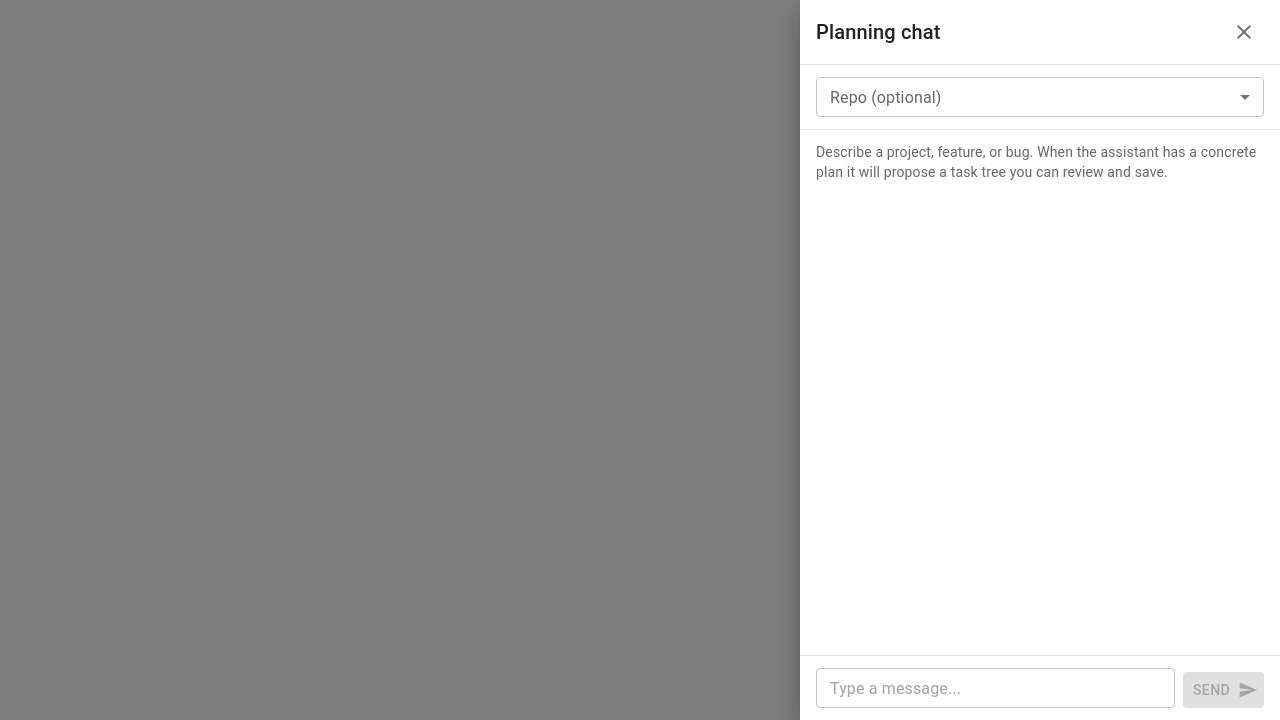
ChatDrawer › shows an error in the assistant bubble when the chat request fails
Type "hi" into the text box named "chat message" at [996, 688], box 830,676 -> 1161,700
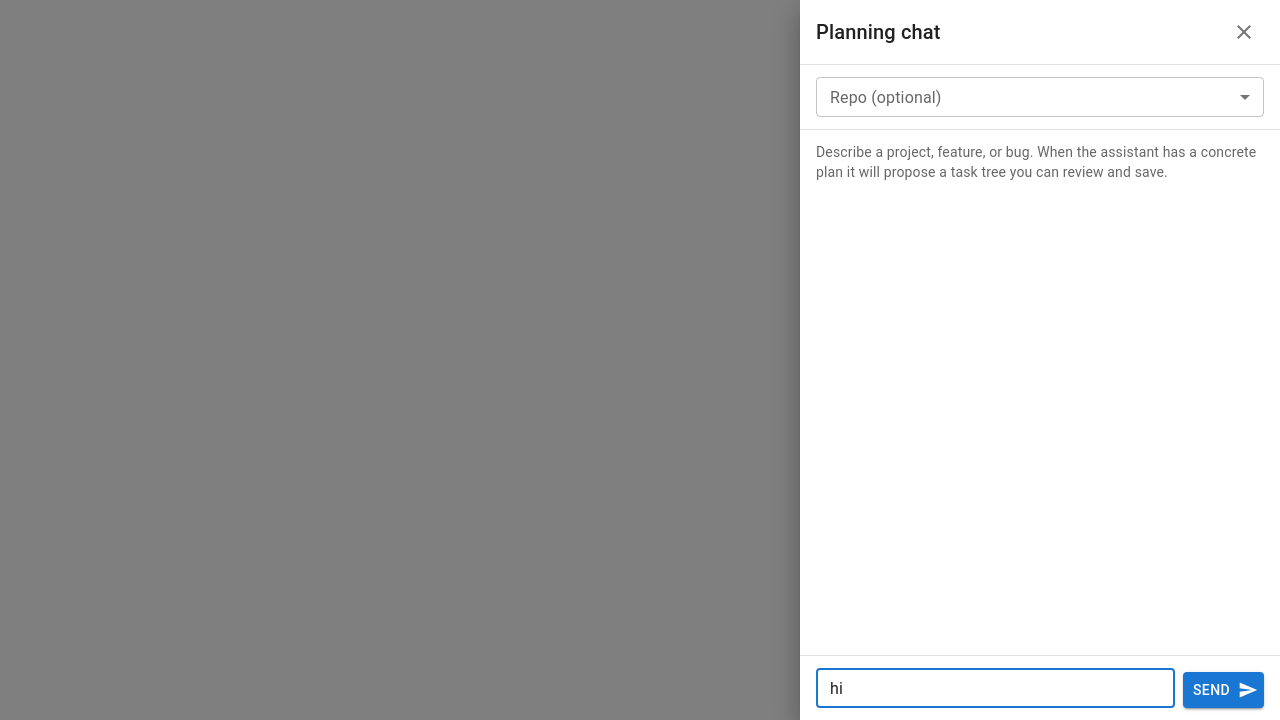
Click the button with aria-label "send message" at [1224, 690], box 1183,672 -> 1264,708
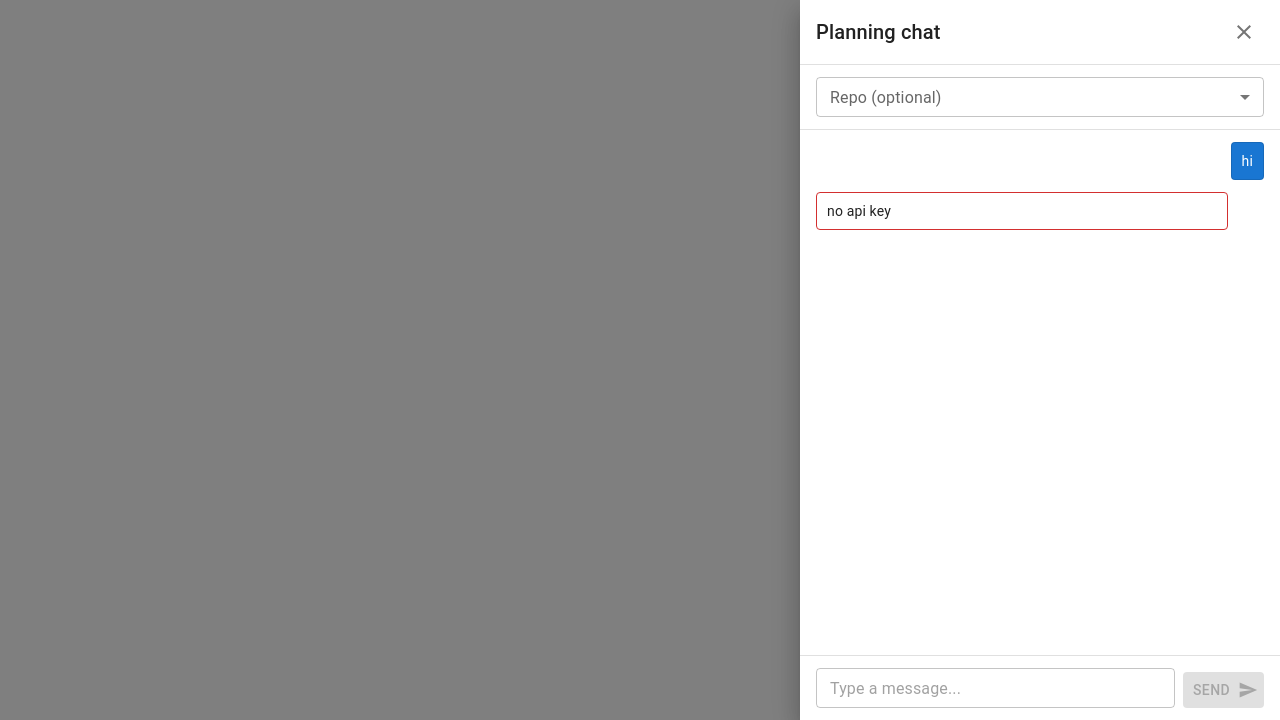
Check: the element with test id "chat-message-assistant" reads "no api key", box 827,203 -> 891,219
